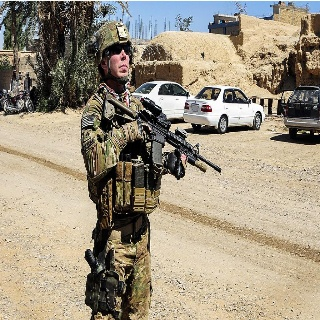rifle: (107, 90, 224, 182)
